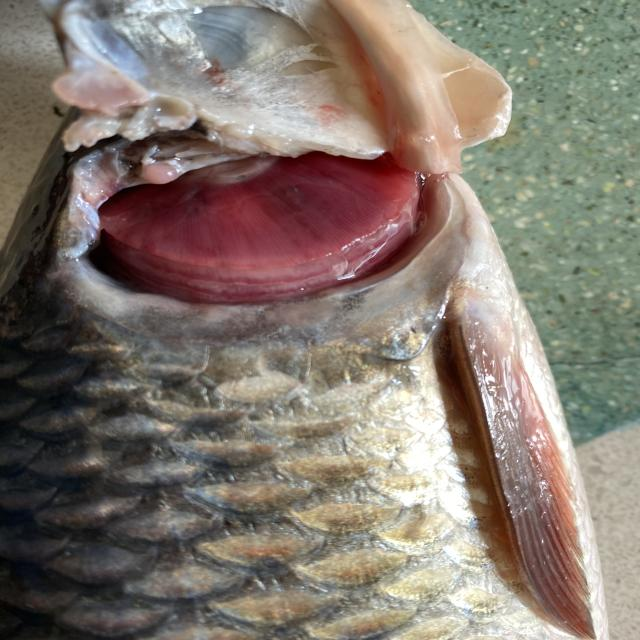Fresh: (88, 148, 454, 296)
